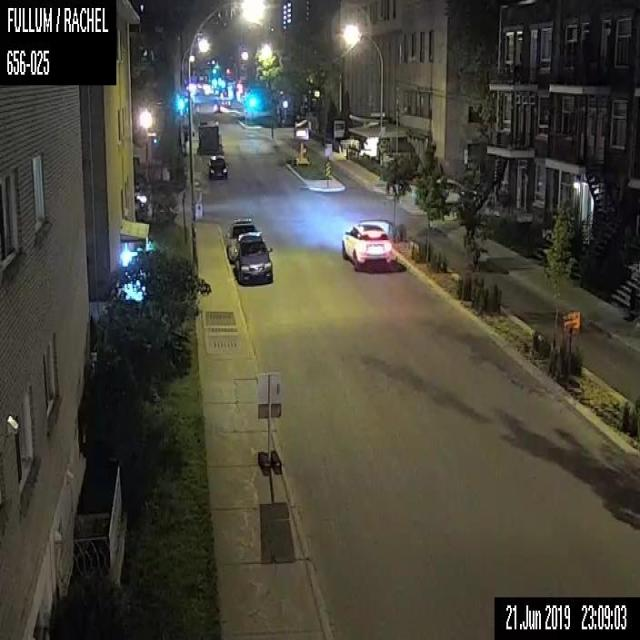vehicle: (341, 220, 391, 271), (232, 234, 273, 284), (226, 216, 262, 262), (207, 155, 228, 177)
